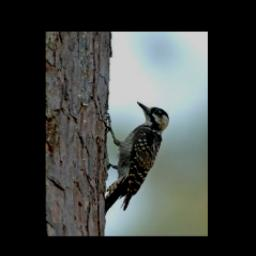Woodpecker: (98, 101, 171, 217)
